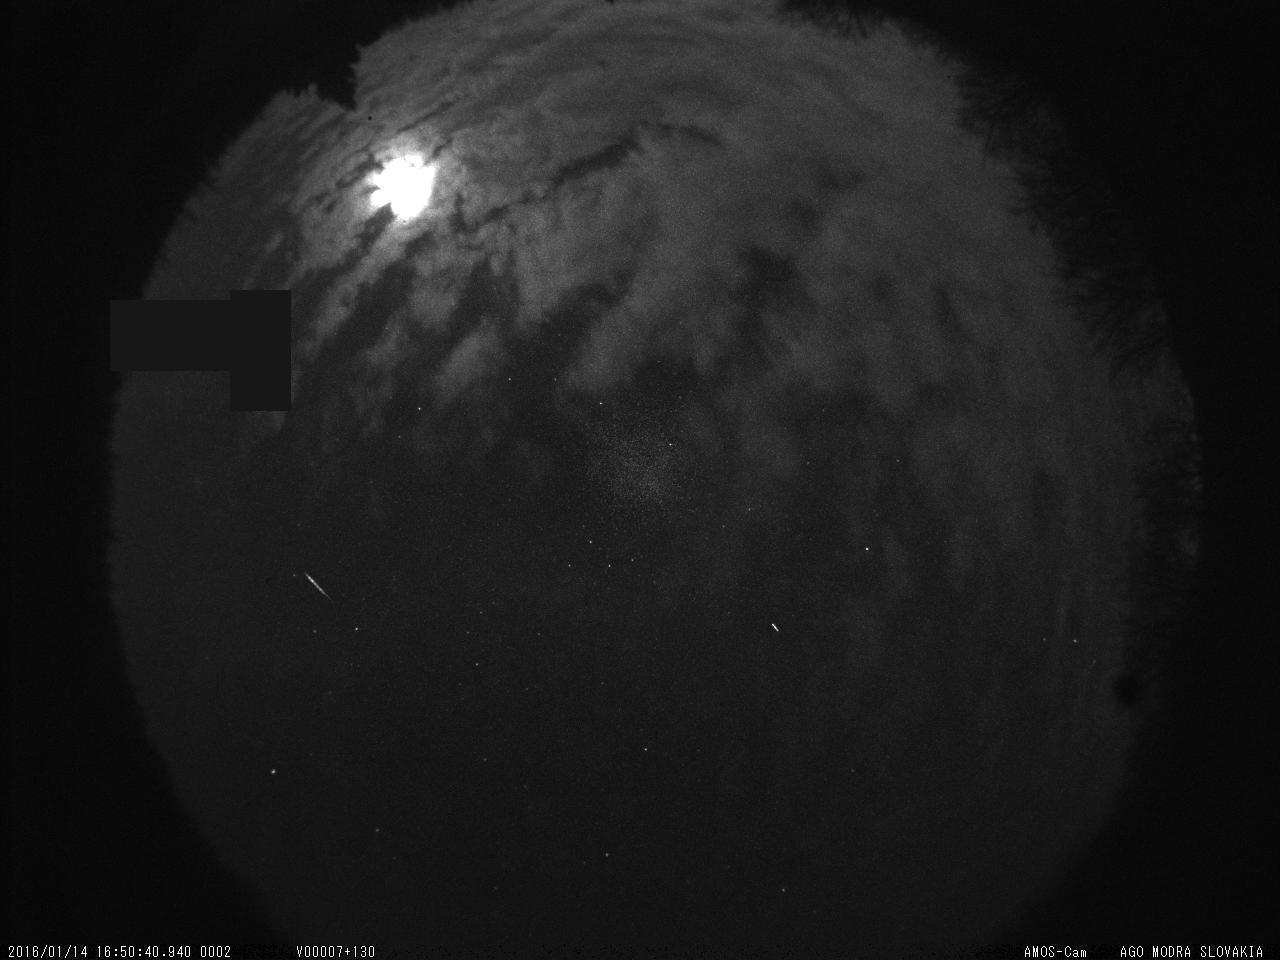Meteor: (295, 559, 342, 616)
